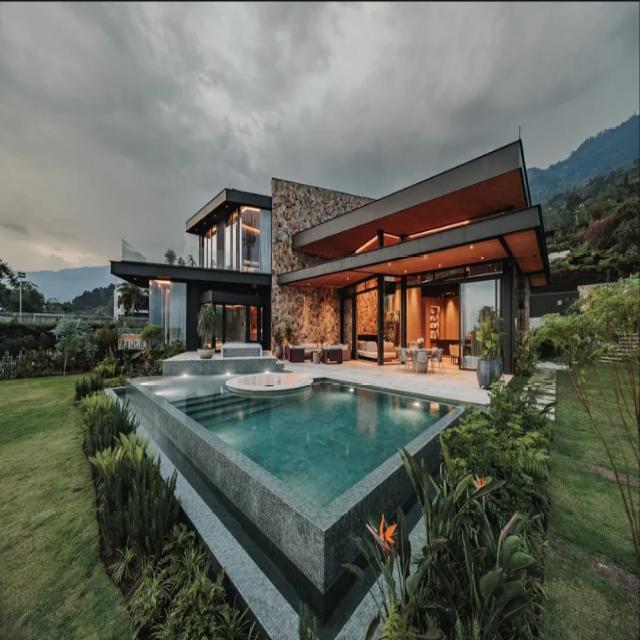Fachada: (112, 139, 550, 373)
